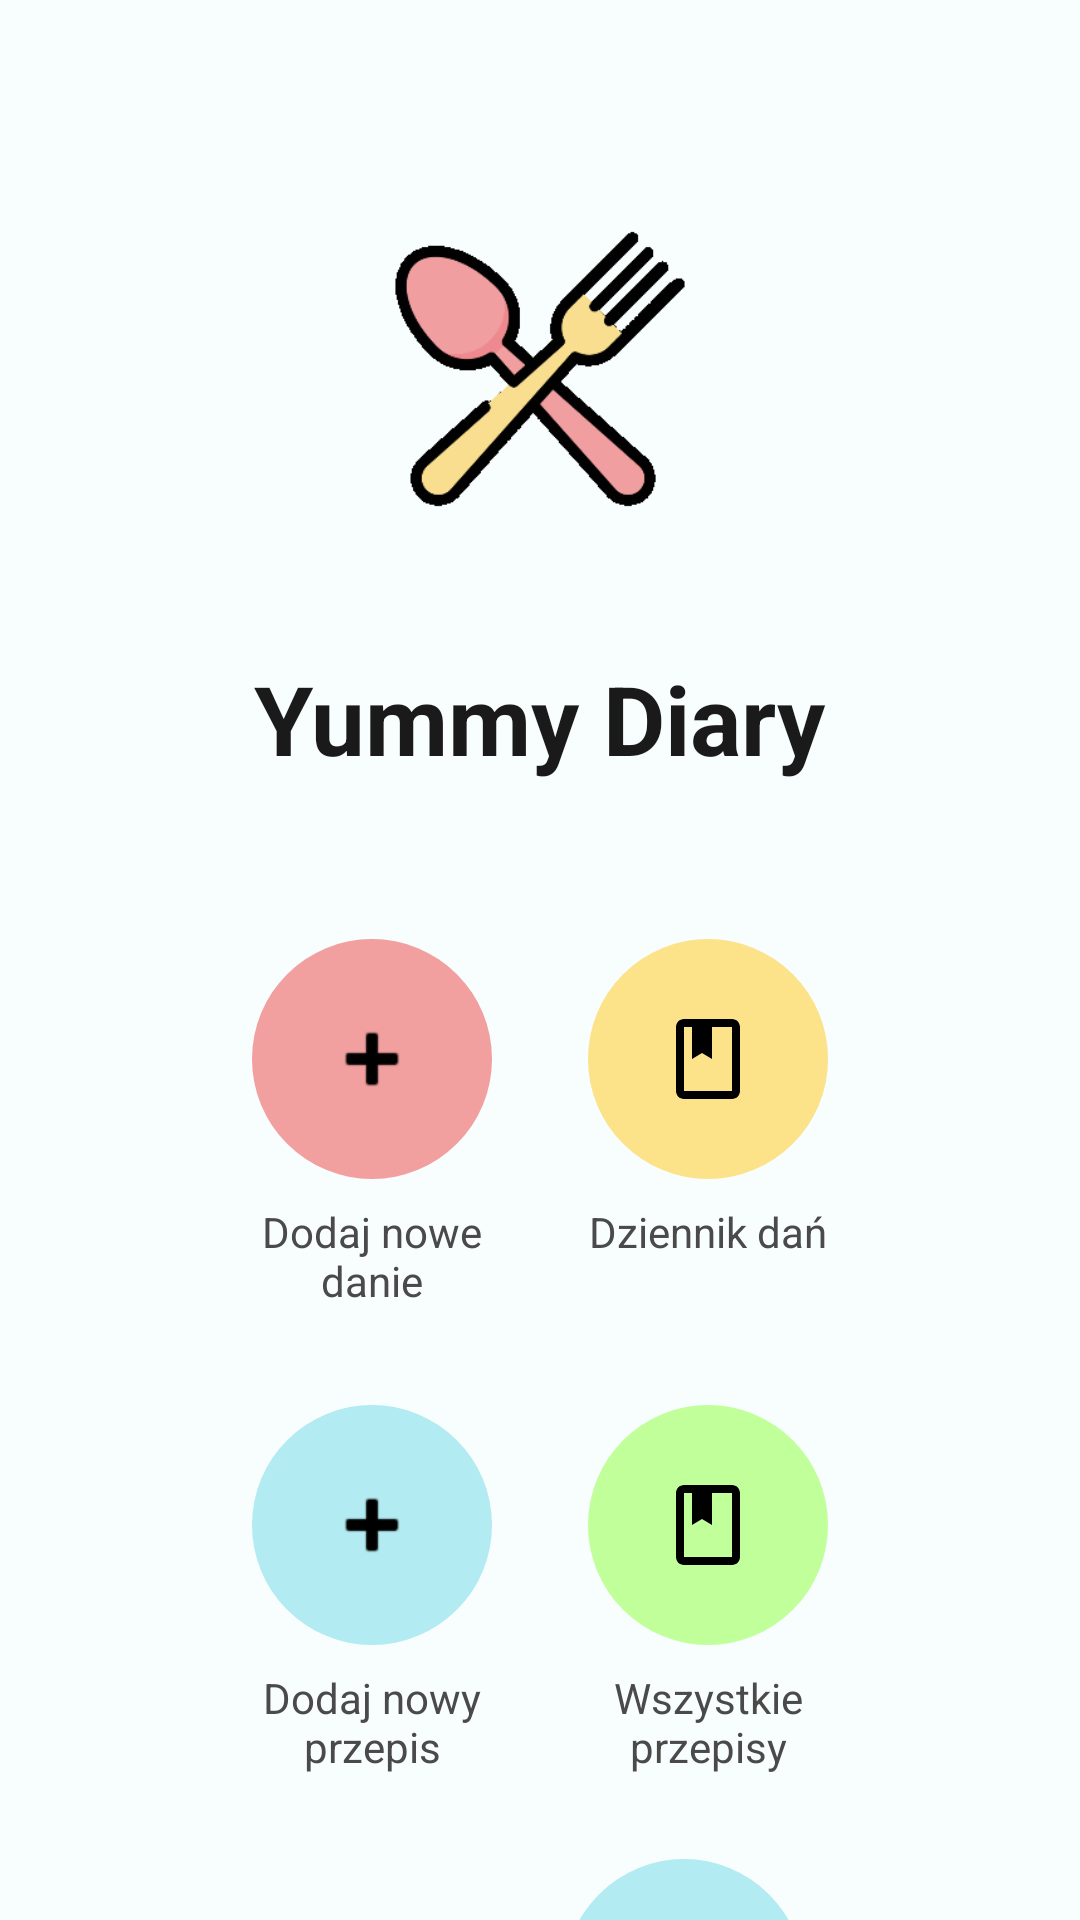

Icon click points for this 1080 x 1920 phone screenshot, format (x=x, y=y):
add: (x=372, y=1059), (x=372, y=1525)
book: (x=708, y=1059), (x=708, y=1525)
